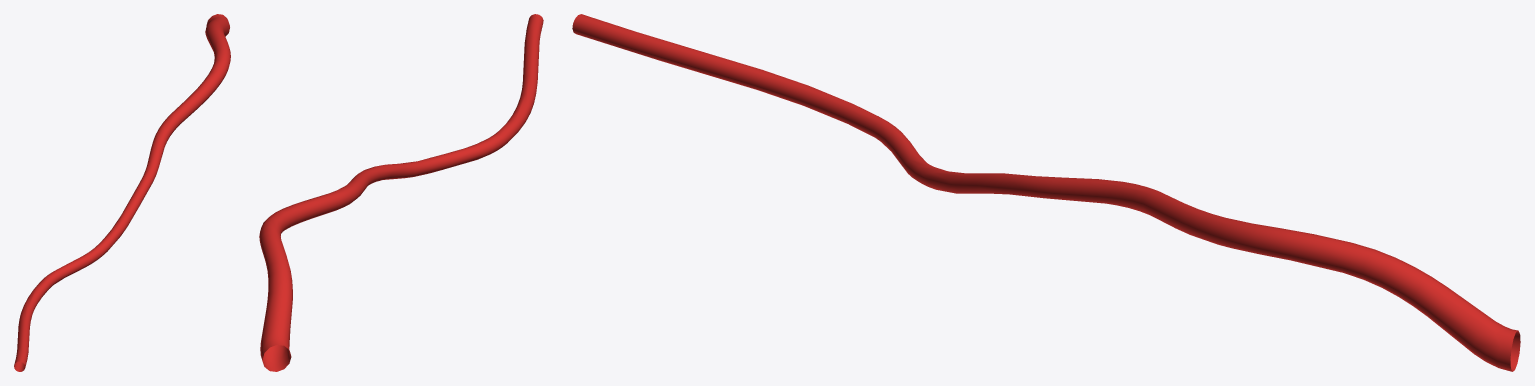
Rendered from circulatorio-superior-petrosal-sinus-l.glb.
The picture shows the model from 3 angles, left to right: view 1: azimuth 30°, elevation 25°; view 2: azimuth 210°, elevation 25°; view 3: azimuth 270°, elevation 25°; orthographic projection. The views are drawn at different scales.
Visible parts, largest first — view 1: Superior petrosal sinus.l; view 2: Superior petrosal sinus.l; view 3: Superior petrosal sinus.l.
Boxes of the visible parts, box(x1,y1,x2,y2) form: Superior petrosal sinus.l: box(14, 14, 230, 371); Superior petrosal sinus.l: box(259, 14, 543, 371); Superior petrosal sinus.l: box(572, 14, 1520, 371).
Size of the model in its own units: 0.0469 by 0.00859 by 0.0452.
